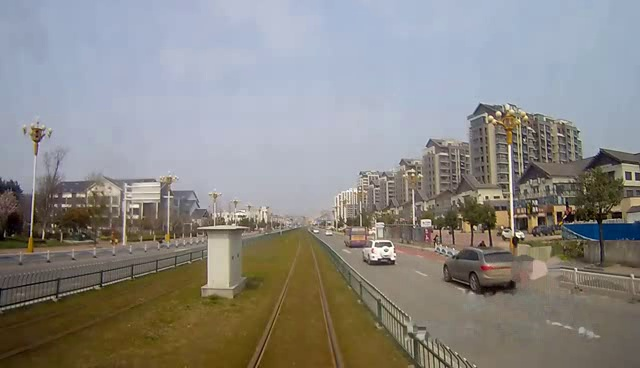bus: (341, 223, 369, 249)
car: (443, 245, 524, 294), (359, 237, 401, 269)
